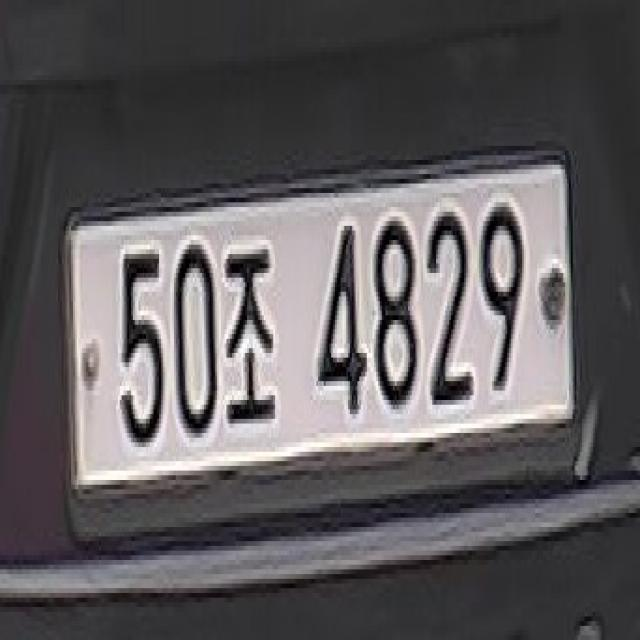0: (176, 233, 218, 447)
2: (428, 200, 473, 427)
4: (310, 203, 368, 438)
5: (116, 242, 164, 452)
8: (370, 192, 422, 426)
9: (477, 188, 529, 406)
jo: (222, 219, 288, 447)
license_plate: (51, 162, 576, 493)
